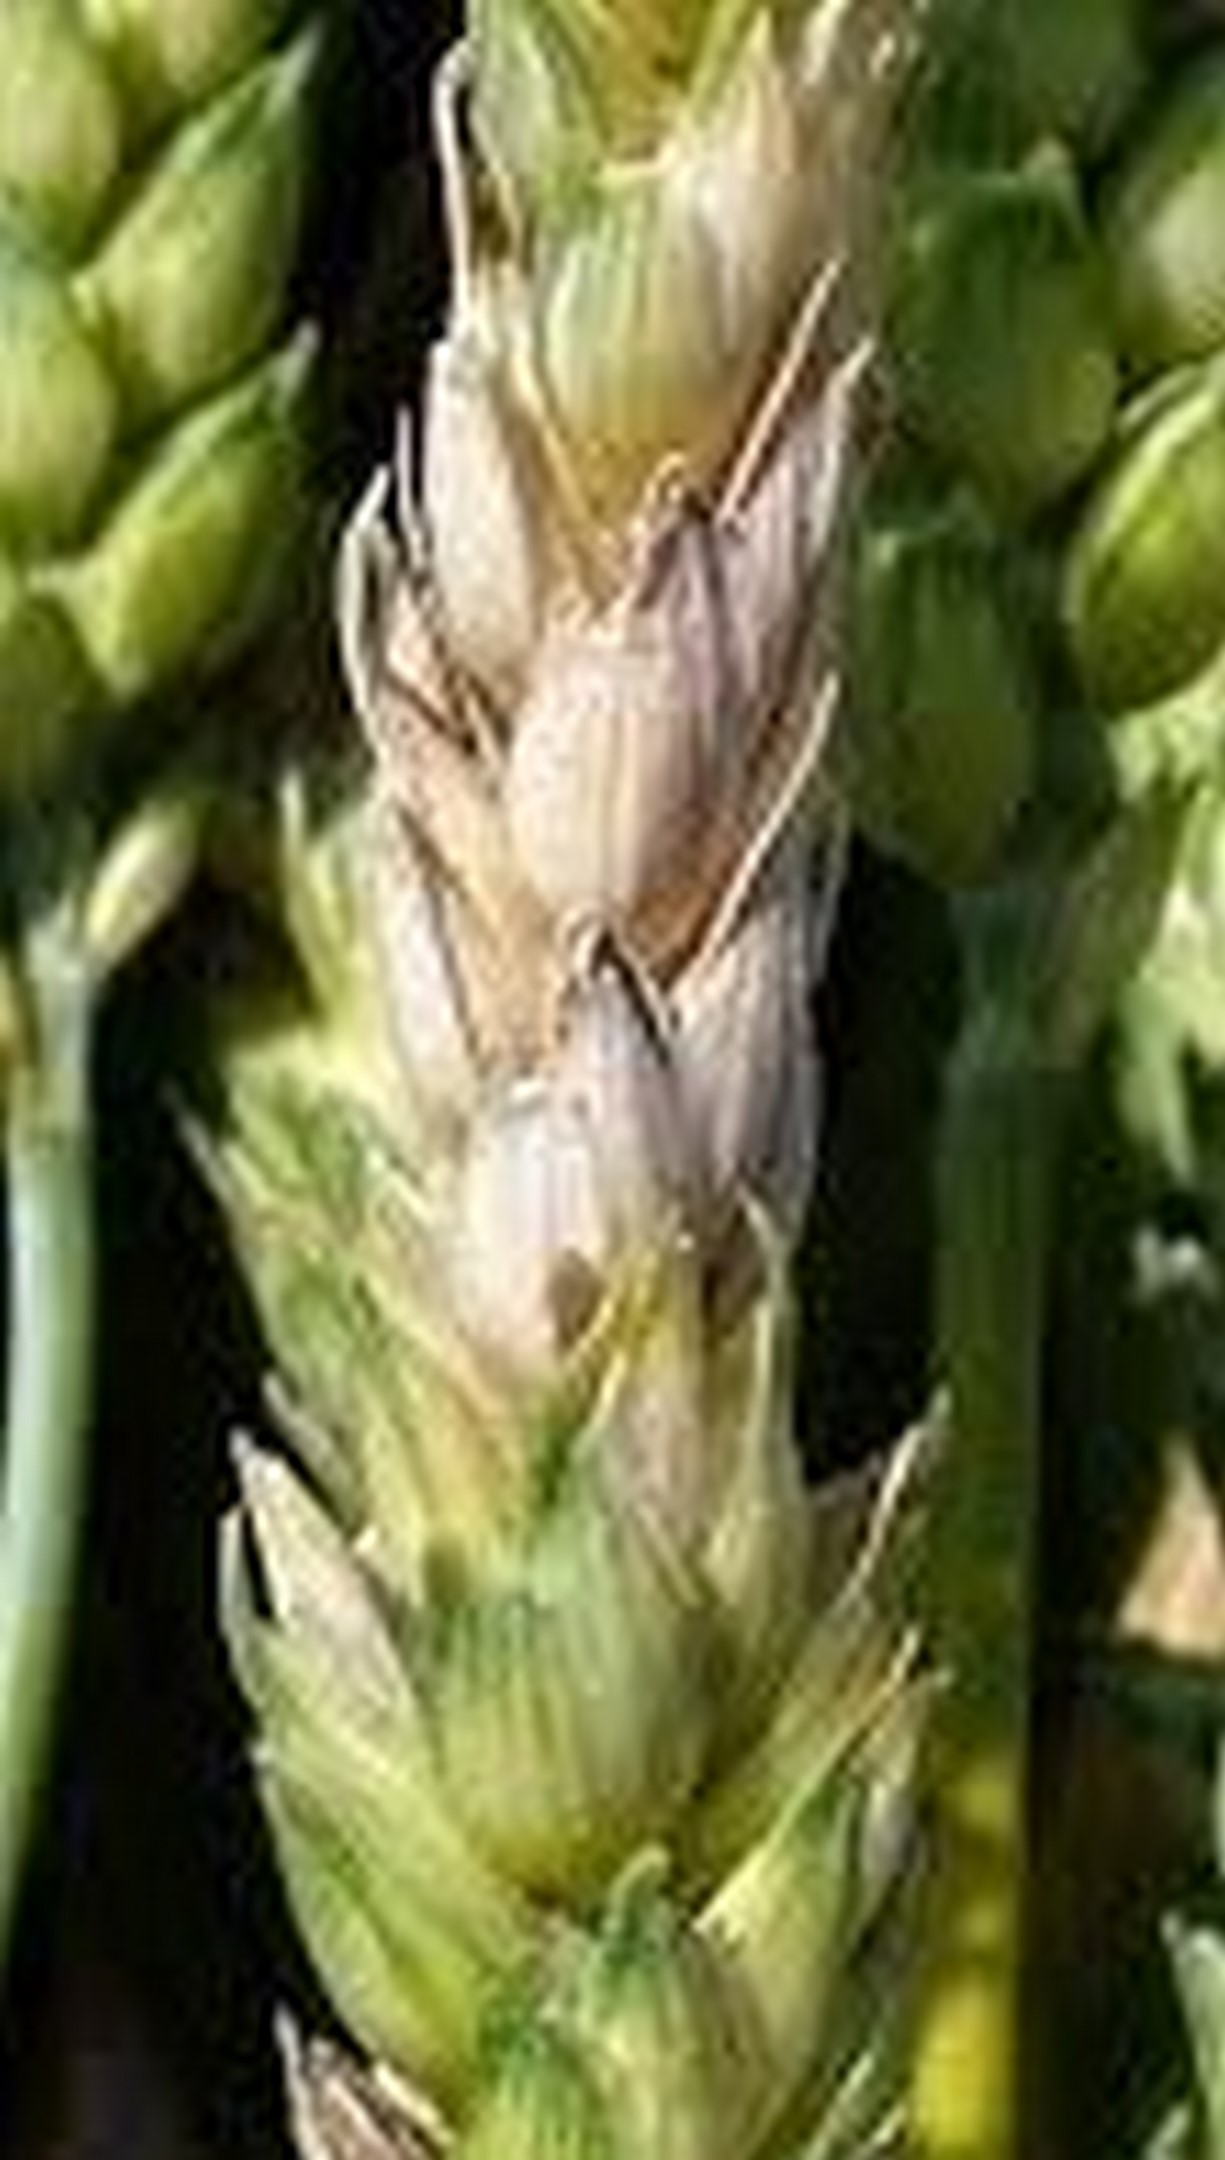Wheat scab: (246, 33, 949, 2145)
